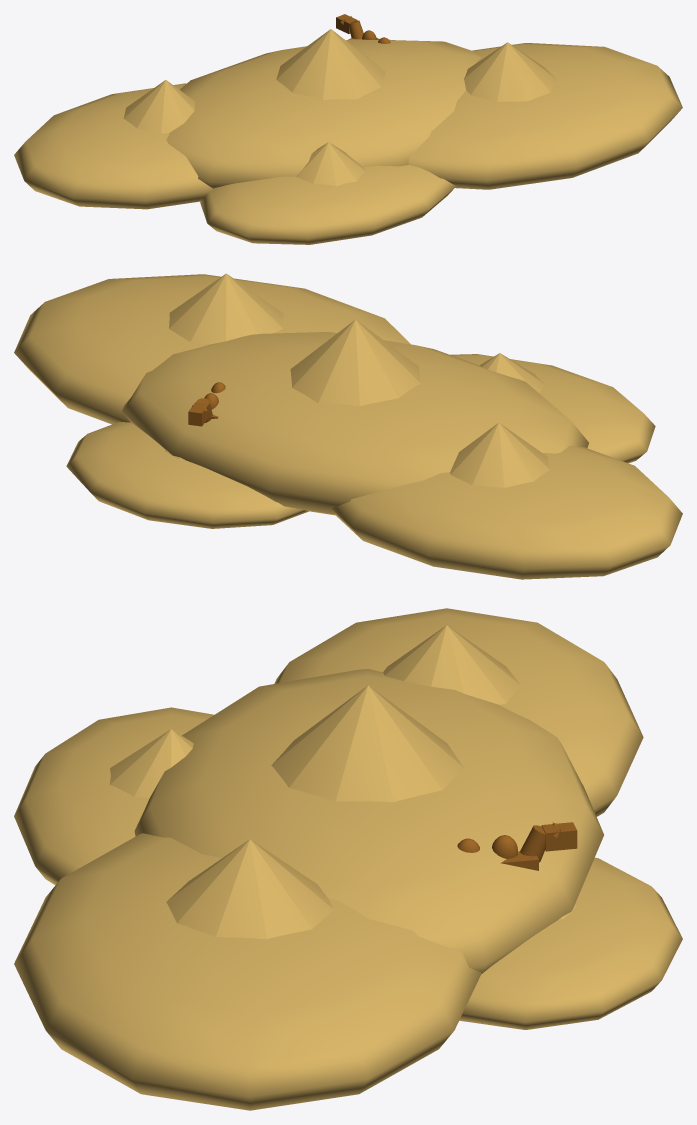
Rendered from sand_dunes.glb.
3 views of the same model, one above another, from view 1: azimuth 30°, elevation 25°; view 2: azimuth 150°, elevation 25°; view 3: azimuth 270°, elevation 25° (orthographic). The views are drawn at different scales.
Size of the model in its own units: 29 by 6.3 by 17.
Materials: 4 (1 with a texture image).
